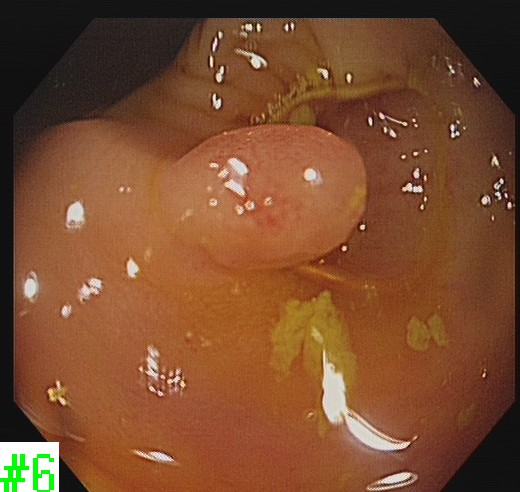adenoma: (160, 121, 371, 272)
